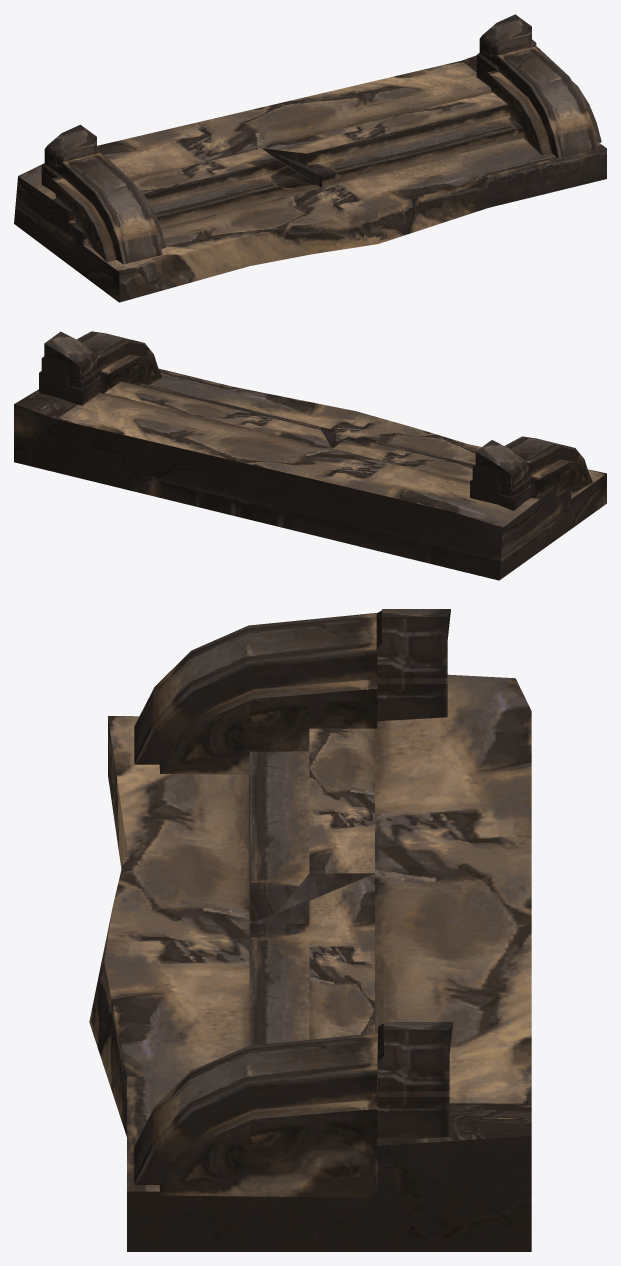
File: xsm_ponei_1.FBX
3 views of the same model, one above another, from view 1: azimuth 30°, elevation 25°; view 2: azimuth 150°, elevation 25°; view 3: azimuth 270°, elevation 25° (orthographic). The views are drawn at different scales.
Visible parts, largest first — view 1: xsm_ponei_1; view 2: xsm_ponei_1; view 3: xsm_ponei_1.
Boxes of the visible parts, x1,y1,x2,y2 form: xsm_ponei_1: [14, 14, 606, 302]; xsm_ponei_1: [14, 331, 606, 580]; xsm_ponei_1: [89, 609, 531, 1251].
Size of the model in its own units: 96.13 by 19.91 by 37.57.
